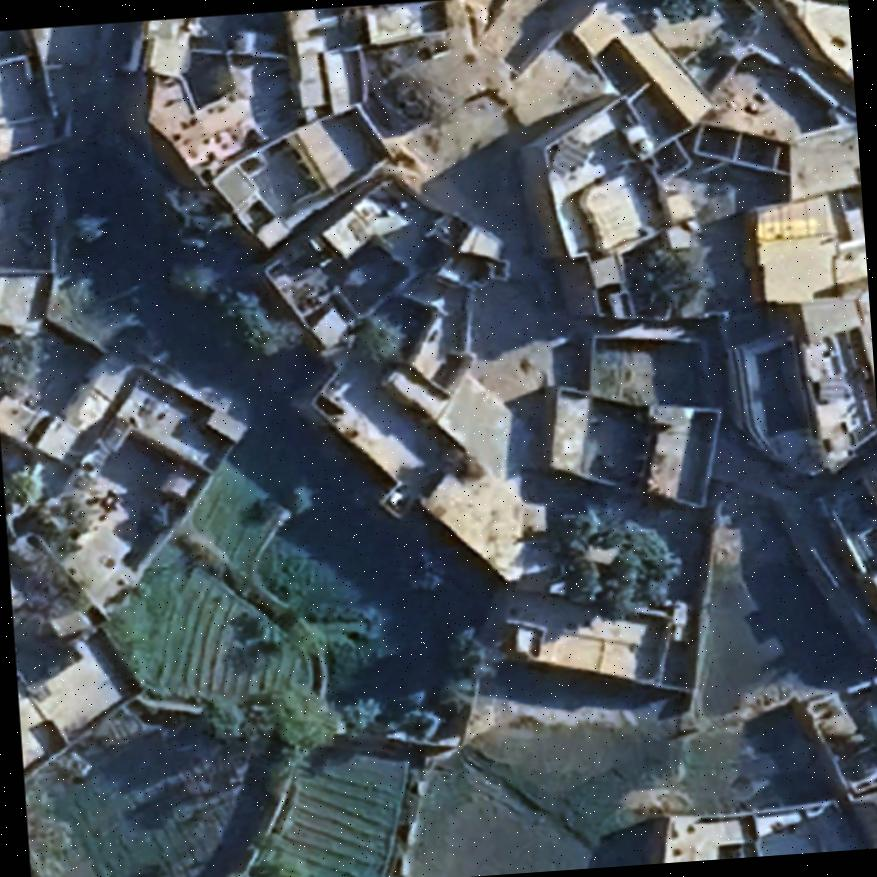Solarpanel: (547, 131, 593, 179), (812, 372, 851, 406)
